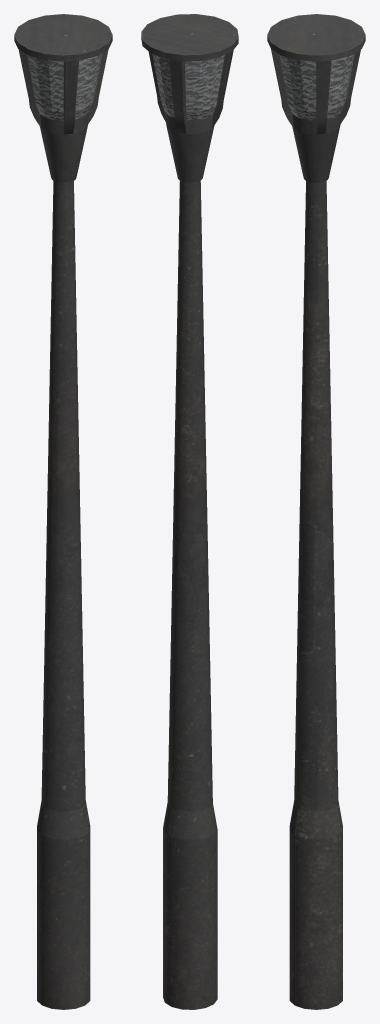
The model's file is LightPole.fbx.
3 views of the same model, side by side, from view 1: azimuth 90°, elevation 25°; view 2: azimuth 150°, elevation 25°; view 3: azimuth 270°, elevation 25° (orthographic).
Visible parts, largest first — view 1: LightPole1; view 2: LightPole1; view 3: LightPole1.
Part boxes in pixels (bbox=[...]): LightPole1: bbox=[14, 14, 112, 1009]; LightPole1: bbox=[141, 14, 238, 1009]; LightPole1: bbox=[267, 14, 365, 1009].
Size of the model in its own units: 44.24 by 478 by 44.24.
